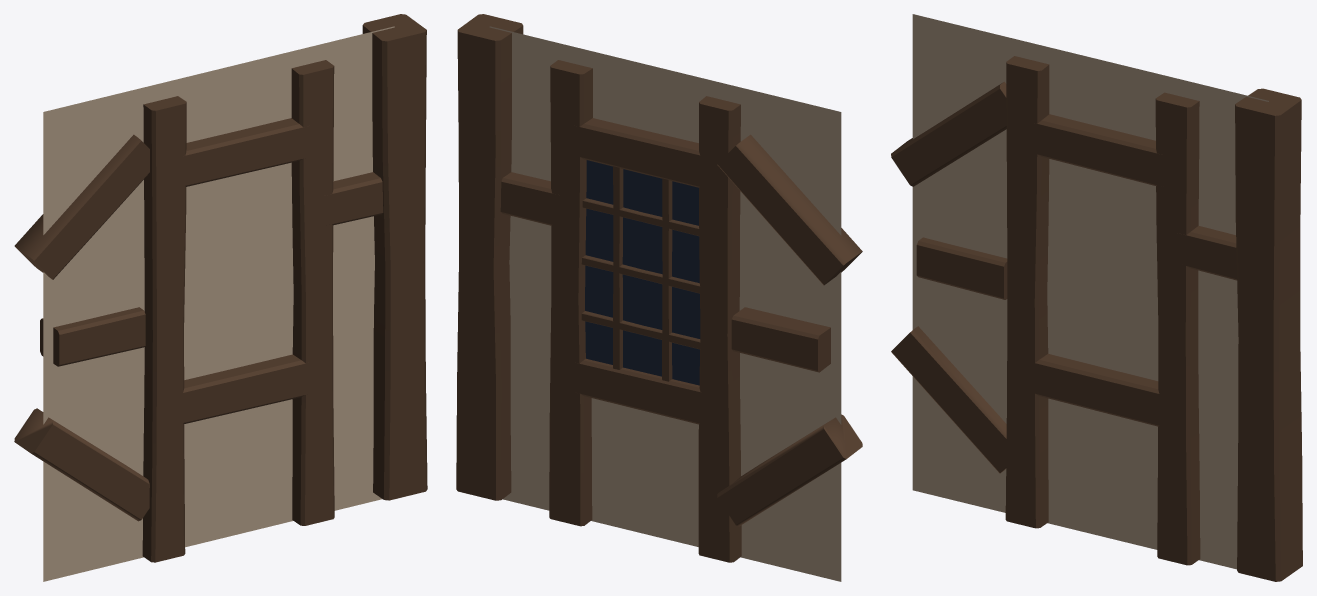
The model's file is WindowWall2.fbx.
3 views of the same model, side by side, from view 1: azimuth 30°, elevation 25°; view 2: azimuth 150°, elevation 25°; view 3: azimuth 330°, elevation 25° (orthographic).
Visible parts, largest first — view 1: Cube.005; view 2: Cube.005; view 3: Cube.005.
Boxes of the visible parts, box(x1,y1,x2,y2) form: Cube.005: box(14, 14, 427, 581); Cube.005: box(456, 14, 862, 581); Cube.005: box(891, 14, 1302, 581).
Size of the model in its own units: 2.23 by 2.56 by 0.2518.
